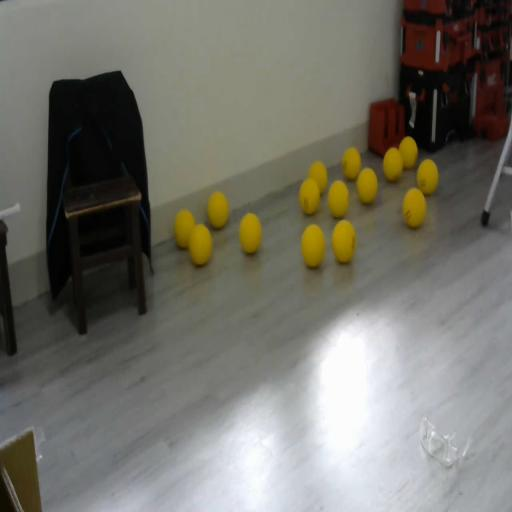FUEL: (300, 222, 326, 268), (332, 218, 356, 263), (238, 211, 262, 255), (402, 186, 426, 228), (326, 179, 350, 219), (206, 190, 230, 230), (356, 166, 378, 205), (174, 209, 194, 249), (382, 146, 404, 182), (417, 158, 438, 195), (308, 160, 328, 196), (398, 135, 418, 169), (342, 146, 361, 180)
